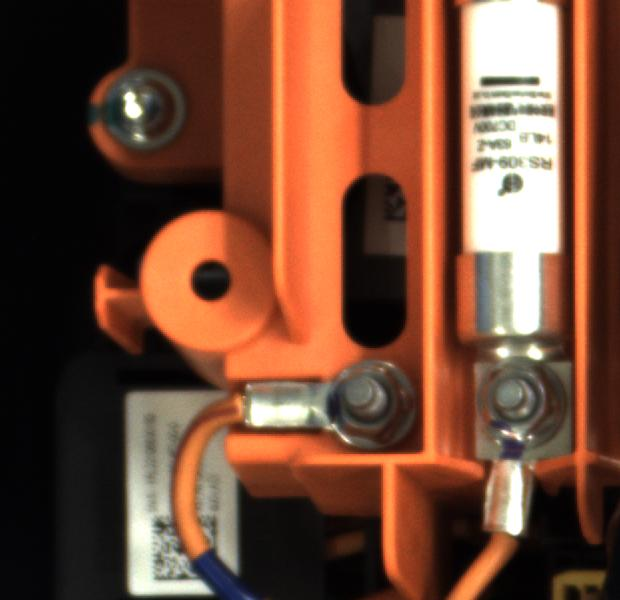screw_m: (91, 58, 203, 159)
screw_s: (472, 355, 567, 451), (329, 357, 422, 449)
